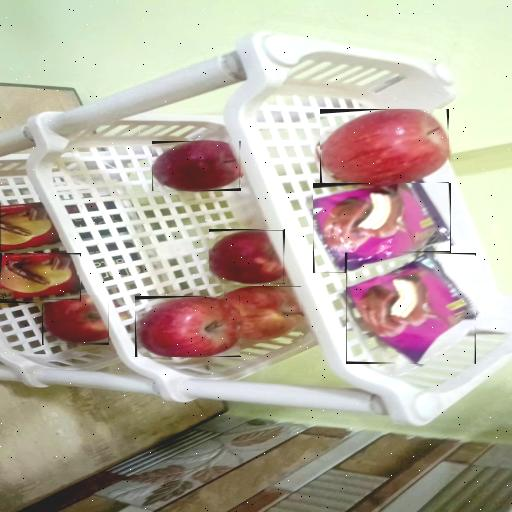Apple: (321, 109, 448, 186), (136, 296, 240, 357), (152, 141, 240, 191), (224, 287, 301, 341), (209, 231, 284, 284), (43, 295, 109, 344)
Choco Fills: (0, 253, 80, 300), (0, 203, 59, 251)
Choco Pie: (347, 254, 475, 363), (313, 183, 450, 272)
